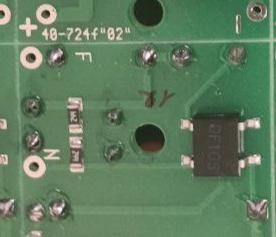chip-resistor: (67, 96, 84, 134), (68, 135, 85, 173)
ic: (179, 111, 263, 178)
